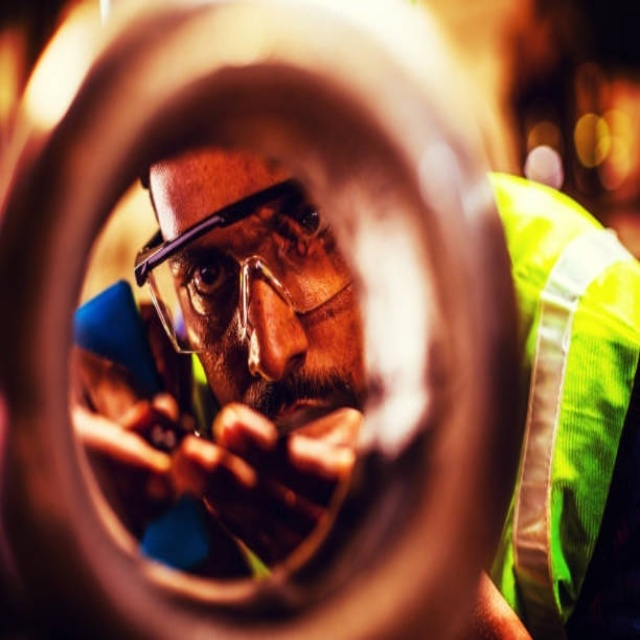Gafas: (134, 181, 322, 356)
